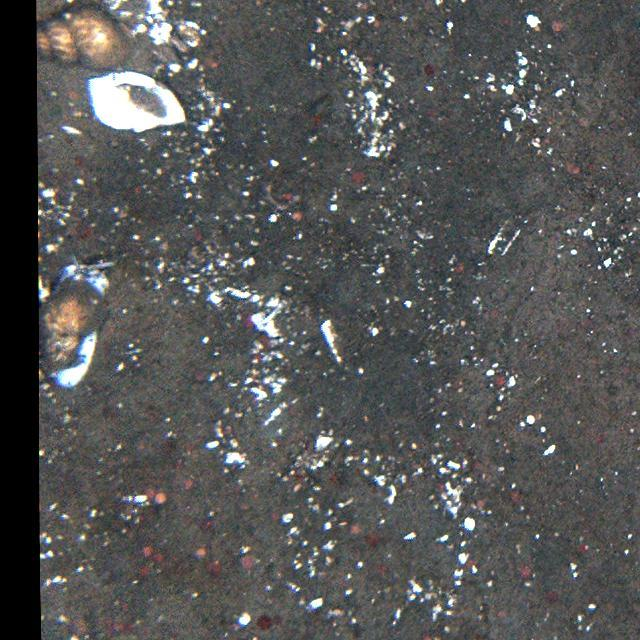whelk: (35, 6, 131, 70)
